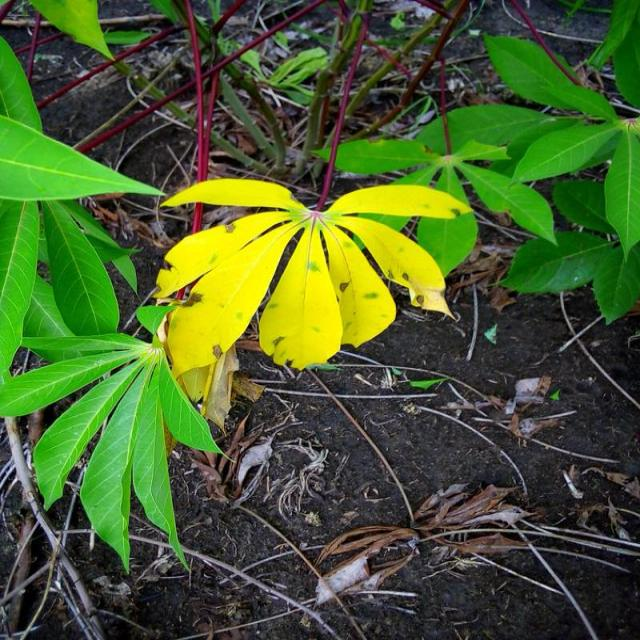cassava leaf: (154, 173, 476, 380), (2, 302, 226, 575)
